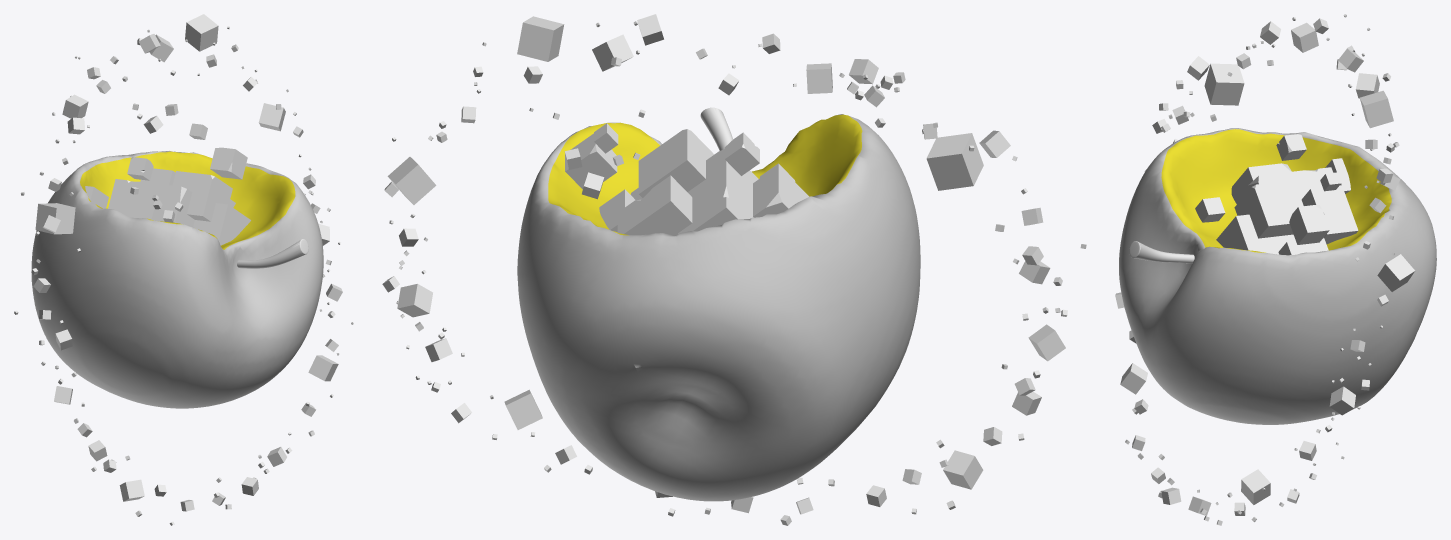
File: cube testing_.fbx
The picture shows the model from 3 angles, left to right: view 1: azimuth 30°, elevation 25°; view 2: azimuth 150°, elevation 25°; view 3: azimuth 270°, elevation 25°; orthographic projection. The views are drawn at different scales.
Visible parts, largest first — view 1: apple crater.001, 立方体.023, 立方体.002, 立方体.001, 立方体.003, 立方体.010, geng, 立方体.009, 立方体.011; view 2: apple crater.001, 立方体.023, 立方体.002, 立方体.007, 立方体.001, 立方体.009, 立方体.010, 立方体.011, geng; view 3: apple crater.001, 立方体.023, 立方体.001, 立方体.007, 立方体.003, 立方体.010, 立方体.002, geng, 立方体.009, 立方体.011, 立方体.012, 立方体.008 (+1 smaller).
Boxes of the visible parts, x1,y1,x2,y2 form: apple crater.001: [31, 151, 323, 408]; 立方体.023: [14, 14, 353, 525]; 立方体.002: [108, 179, 194, 226]; 立方体.001: [172, 171, 232, 221]; 立方体.003: [193, 203, 250, 245]; 立方体.010: [210, 147, 247, 179]; geng: [237, 239, 308, 268]; 立方体.009: [116, 201, 164, 221]; 立方体.011: [127, 157, 153, 180]; apple crater.001: [517, 114, 920, 501]; 立方体.023: [382, 14, 1086, 525]; 立方体.002: [678, 149, 758, 234]; 立方体.007: [617, 175, 692, 235]; 立方体.001: [638, 129, 713, 197]; 立方体.009: [753, 165, 809, 217]; 立方体.010: [565, 133, 617, 189]; 立方体.011: [724, 132, 759, 175]; geng: [700, 107, 732, 150]; apple crater.001: [1119, 128, 1436, 424]; 立方体.023: [1115, 14, 1414, 525]; 立方体.001: [1234, 180, 1303, 238]; 立方体.007: [1301, 185, 1358, 244]; 立方体.003: [1216, 214, 1295, 254]; 立方体.010: [1289, 205, 1329, 244]; 立方体.002: [1237, 167, 1333, 202]; geng: [1129, 241, 1194, 263]; 立方体.009: [1231, 163, 1291, 203]; 立方体.011: [1276, 134, 1306, 160]; 立方体.012: [1195, 197, 1225, 222]; 立方体.008: [1278, 238, 1328, 255].
Bounding box in the file's own units: 359 × 354 × 228.
